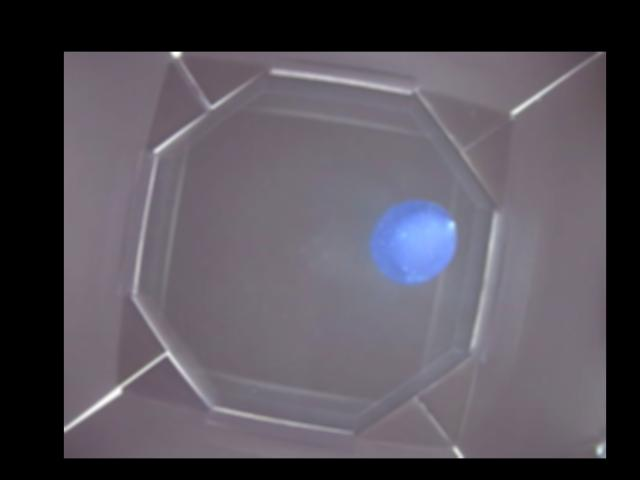Potato: (373, 199, 457, 284)
